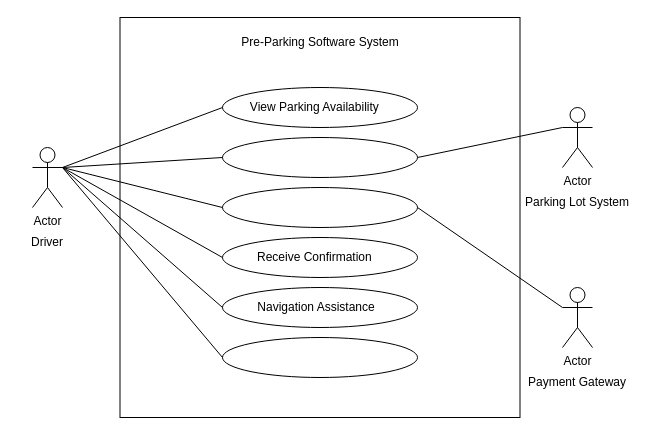
This 659x435 diagram has some shape labels left out. The centre of each missing label's shape, as x and y in pixels:
Cancel Reservation: the point at 320,357
Make Payment: the point at 320,207
Reserve Parking Spot: the point at 320,157
